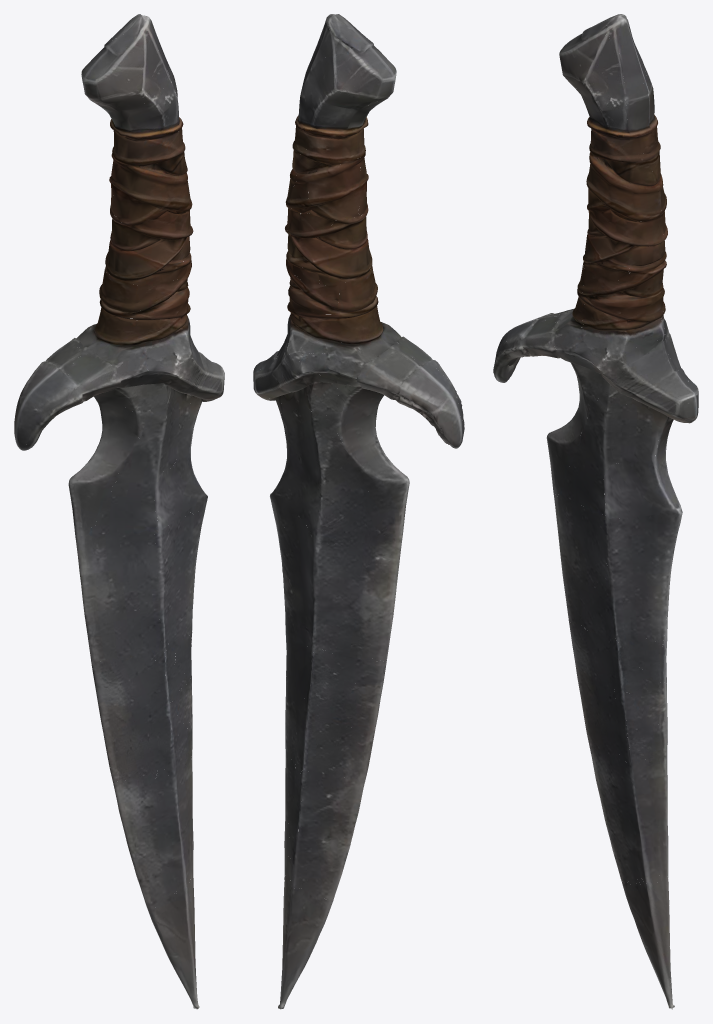
The model's file is adaga-rank0.glb.
The picture shows the model from 3 angles, left to right: view 1: azimuth 30°, elevation 25°; view 2: azimuth 150°, elevation 25°; view 3: azimuth 330°, elevation 25°; orthographic projection. The views are drawn at different scales.
Visible parts, largest first — view 1: tripo_node_f737ac0a-f02f-4f1c-ad57-66ce628278db; view 2: tripo_node_f737ac0a-f02f-4f1c-ad57-66ce628278db; view 3: tripo_node_f737ac0a-f02f-4f1c-ad57-66ce628278db.
Boxes of the visible parts, left/top/right/bottom form: tripo_node_f737ac0a-f02f-4f1c-ad57-66ce628278db: left=14, top=14, right=224, bottom=1009; tripo_node_f737ac0a-f02f-4f1c-ad57-66ce628278db: left=253, top=14, right=464, bottom=1009; tripo_node_f737ac0a-f02f-4f1c-ad57-66ce628278db: left=493, top=14, right=698, bottom=1009.
Size of the model in its own units: 0.211 by 0.9834 by 0.0968.
Materials: 1 (1 with a texture image).
